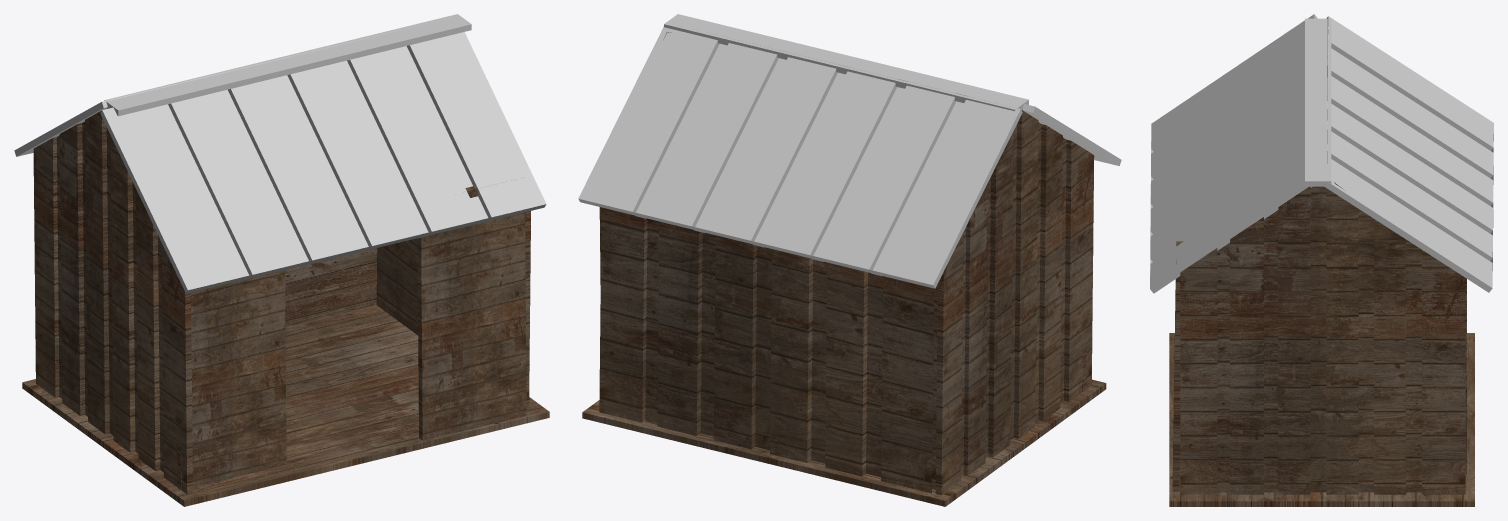
File: shed_textured_4.fbx
3 views of the same model, side by side, from view 1: azimuth 30°, elevation 25°; view 2: azimuth 150°, elevation 25°; view 3: azimuth 270°, elevation 25° (orthographic). The views are drawn at different scales.
Visible parts, largest first — view 1: Roof1.002, wallwithwindow, Base, Plane.003, Plane.004, RoofHolder, Plane.002, wallwithwindow.001, Roof1.001; view 2: Roof1.001, wallwithwindow.002, wallwithwindow, Base, RoofHolder, Roof1.002; view 3: wallwithwindow.001, Roof1.001, Roof1.002, Base, RoofHolder, Plane.003, wallwithwindow.002.
Boxes of the visible parts, box(x1,y1,x2,y2) form: Roof1.002: box(100, 32, 546, 293); wallwithwindow: box(33, 107, 192, 494); Base: box(22, 305, 549, 506); Plane.003: box(417, 186, 526, 440); Plane.004: box(177, 270, 286, 489); RoofHolder: box(104, 14, 471, 116); Plane.002: box(285, 248, 377, 326); wallwithwindow.001: box(376, 211, 530, 411); Roof1.001: box(14, 21, 437, 156); Roof1.001: box(578, 22, 1022, 288); wallwithwindow.002: box(599, 207, 937, 493); wallwithwindow: box(935, 109, 1094, 495); Base: box(582, 379, 1106, 506); RoofHolder: box(664, 14, 1028, 111); Roof1.002: box(1022, 104, 1121, 165); wallwithwindow.001: box(1180, 182, 1465, 494); Roof1.001: box(1323, 16, 1493, 292); Roof1.002: box(1150, 14, 1317, 293); Base: box(1169, 333, 1474, 506); RoofHolder: box(1305, 18, 1331, 186); Plane.003: box(1172, 241, 1183, 491); wallwithwindow.002: box(1465, 278, 1466, 475).
Size of the model in its own units: 736 by 650 by 626.
